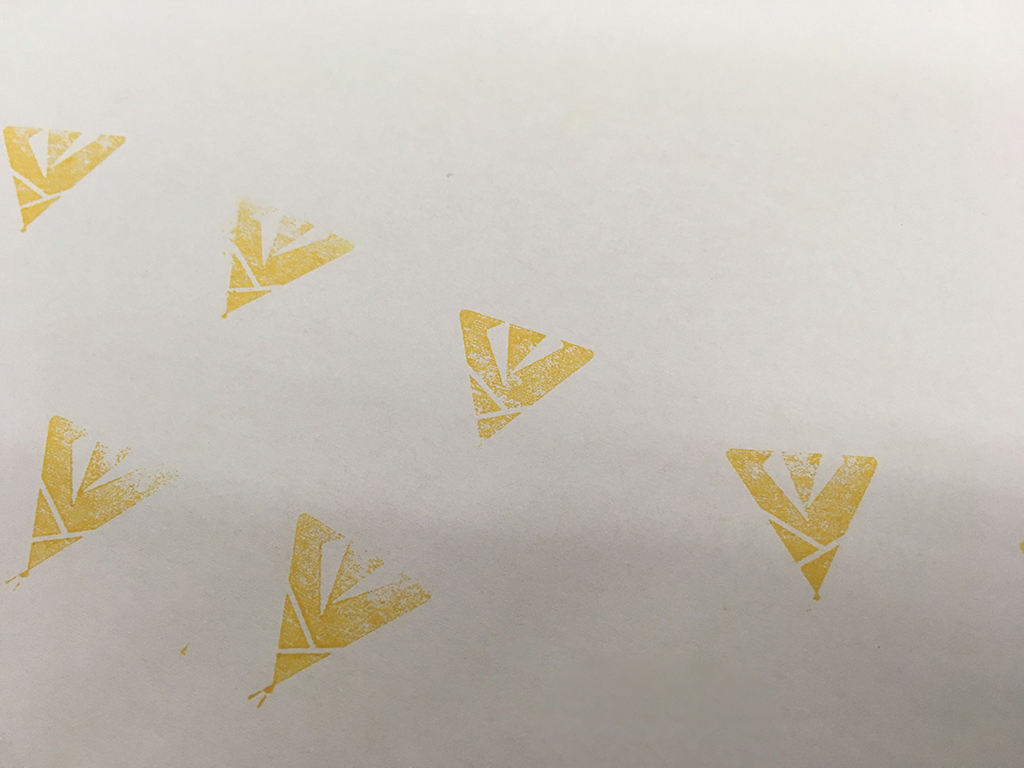tent: (243, 512, 436, 714), (1, 400, 183, 595), (716, 439, 884, 610), (446, 302, 602, 463), (215, 188, 359, 332), (1, 116, 130, 240)
